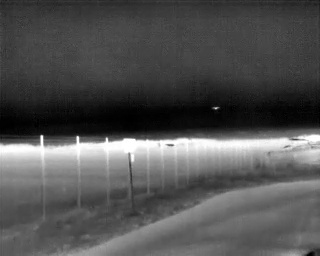AIRPLANE: (211, 104, 221, 112)
